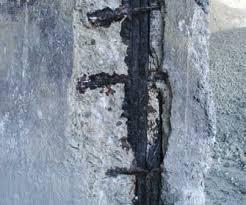exposed_rebar: (77, 0, 161, 204)
